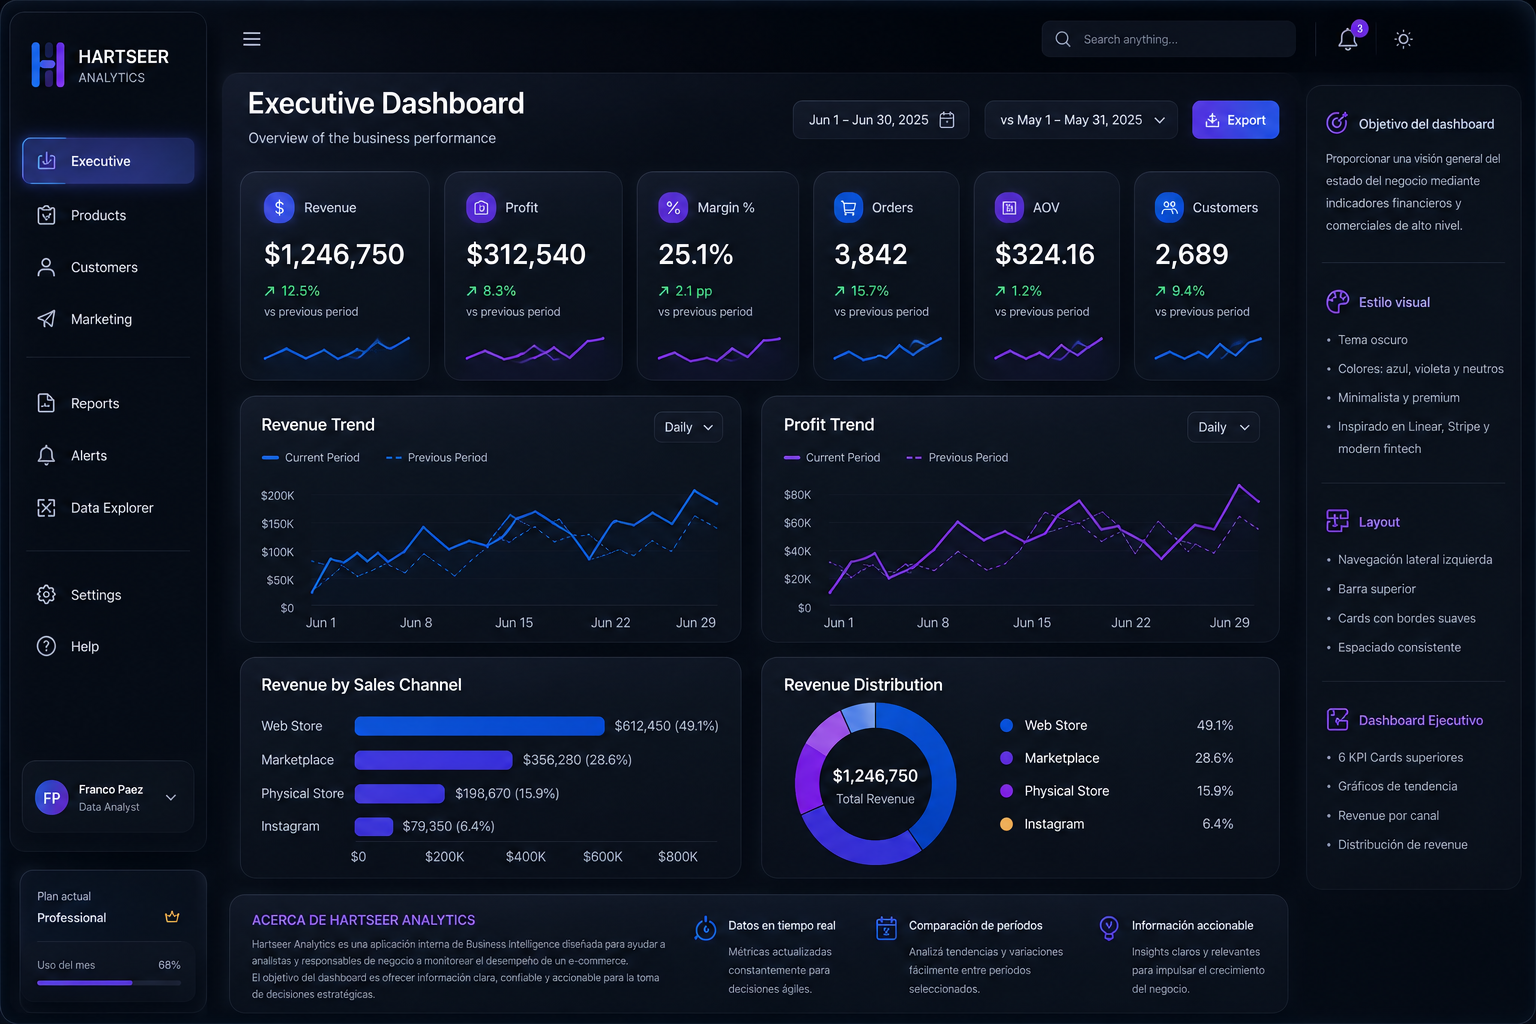

The page's visual inventory and layout, read from the dashboard file:
{"tool":"powerbi","page":{"name":"Dashboard Ejecutivo","canvas":[1280,720],"ordinal":0},"visuals":[{"type":"cardVisual","title":"Revenue","fields":{"Data":["Detalle Compra.Revenue"]},"box":[18,116,190,125],"z":0},{"type":"lineChart","title":"Revenue Trend","fields":{"Y":["Detalle Compra.Revenue"],"Category":["Calendario.Mes Corto ENG"]},"box":[18,267,613,420],"z":1000},{"type":"lineChart","title":"Profit Trend","fields":{"Category":["Calendario.Mes Corto ENG"],"Y":["Detalle Compra.Profit"]},"box":[653,267,613,420],"z":2000},{"type":"textbox","box":[18,0,439,62],"z":3000},{"type":"textbox","box":[18,55,303,44],"z":4000},{"type":"cardVisual","title":"Profit","fields":{"Data":["Detalle Compra.Profit"]},"box":[229.6,116,190,125],"z":5000},{"type":"cardVisual","title":"Margin %","fields":{"Data":["Detalle Compra.Margin"]},"box":[450,116,190,125],"z":6000},{"type":"cardVisual","title":"Orders","fields":{"Data":["Compra.Orders"]},"box":[652.8,116,190,125],"z":7000},{"type":"cardVisual","title":"Customers","fields":{"Data":["Compra.Customers"]},"box":[864.4,116,190,125],"z":8000},{"type":"cardVisual","title":"AOV","fields":{"Data":["Detalle Compra.AOV"]},"box":[1076,116,190,125],"z":9000},{"type":"slicer","fields":{"Values":["Calendario.Date"]},"box":[1028,10,238,89],"z":11000}]}

Visuals, with their boxes on the page's 1280x720 design canvas (x1, y1, x2, y2). These are canvas units, not pixel positions in the 1536x1024 screenshot, which may show the page scaled, cropped or inside an application window:
"Revenue" cardVisual: box(18, 116, 208, 241)
"Revenue Trend" lineChart: box(18, 267, 631, 687)
"Profit Trend" lineChart: box(653, 267, 1266, 687)
textbox: box(18, 0, 457, 62)
textbox: box(18, 55, 321, 99)
"Profit" cardVisual: box(230, 116, 420, 241)
"Margin %" cardVisual: box(450, 116, 640, 241)
"Orders" cardVisual: box(653, 116, 843, 241)
"Customers" cardVisual: box(864, 116, 1054, 241)
"AOV" cardVisual: box(1076, 116, 1266, 241)
slicer - Calendario.Date: box(1028, 10, 1266, 99)
